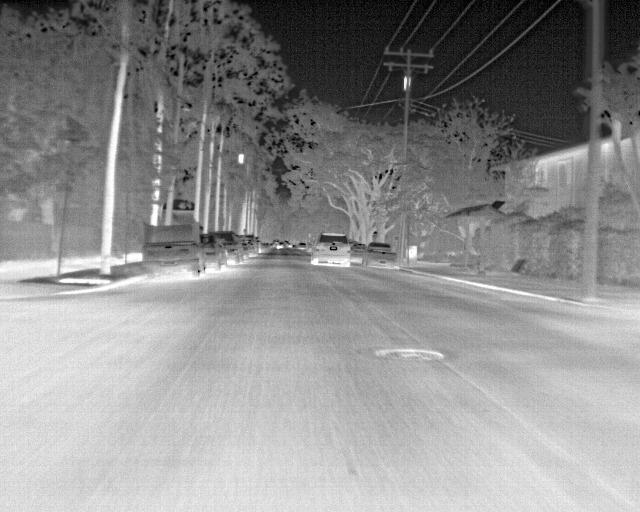bicycle: (142, 224, 206, 278), (308, 230, 355, 264), (200, 233, 227, 270), (364, 241, 399, 269), (217, 231, 244, 265), (237, 234, 258, 258), (349, 242, 368, 263), (296, 240, 308, 252), (274, 241, 285, 250)
